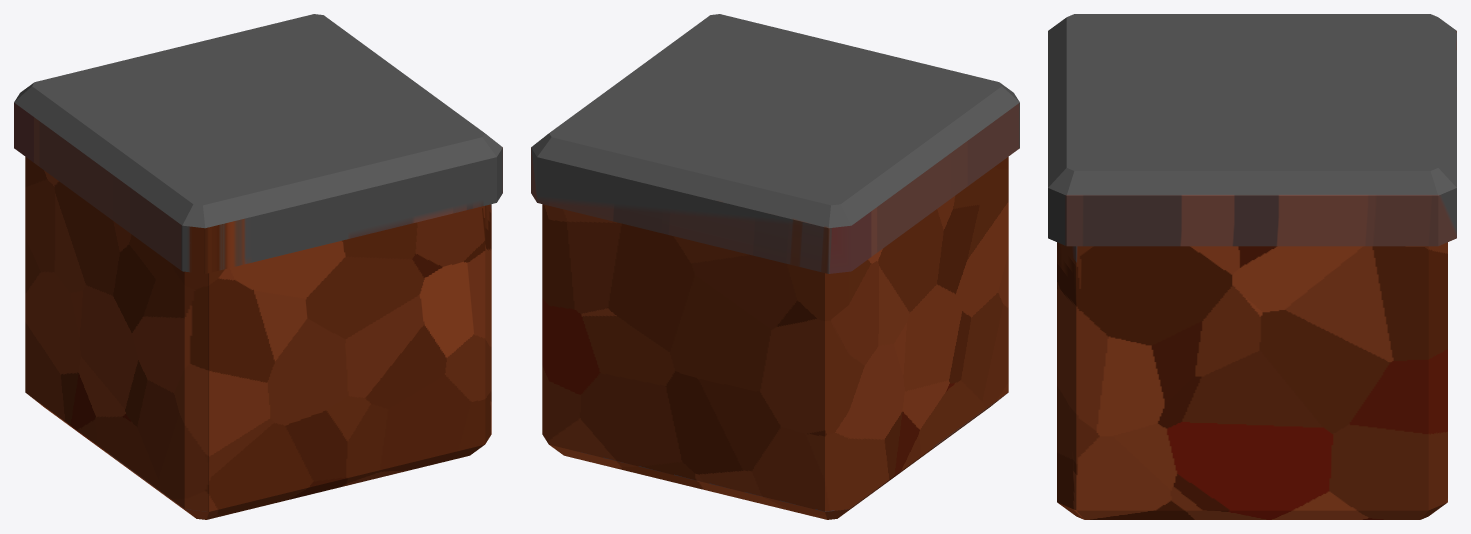
The model's file is CubeBox.glb.
3 views of the same model, side by side, from view 1: azimuth 30°, elevation 25°; view 2: azimuth 150°, elevation 25°; view 3: azimuth 270°, elevation 25° (orthographic). The views are drawn at different scales.
Visible parts, largest first — view 1: CubeBox; view 2: CubeBox; view 3: CubeBox.
Boxes of the visible parts, <box> form: CubeBox: <box>14,14,502,519</box>; CubeBox: <box>531,14,1019,519</box>; CubeBox: <box>1048,14,1456,519</box>.
Bounding box in the file's own units: 2.09 × 1.99 × 2.09.
1 material, 1 textured.
